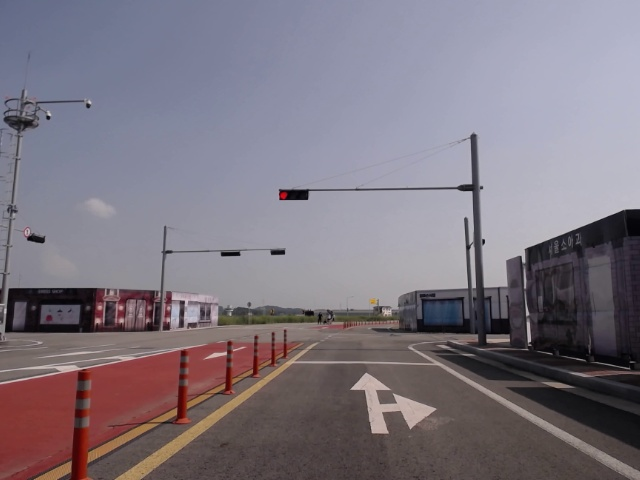red_3: (279, 190, 309, 201)
